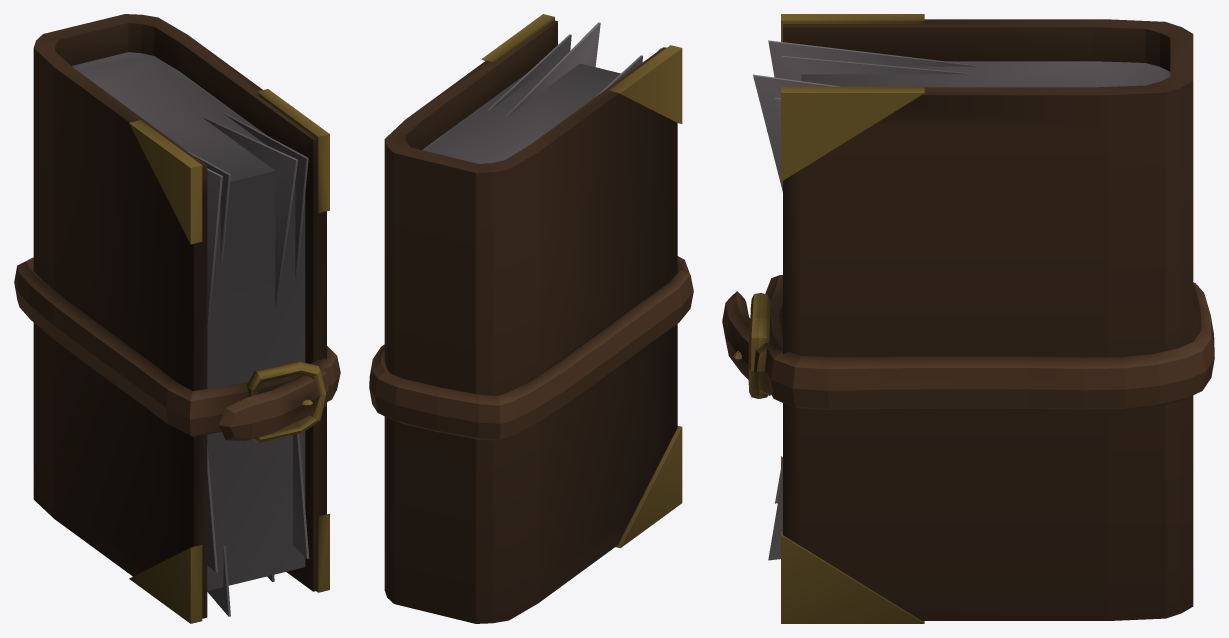
File: pq_grimoire.glb
3 renders of one model, left to right at view 1: azimuth 30°, elevation 25°; view 2: azimuth 150°, elevation 25°; view 3: azimuth 270°, elevation 25°, orthographic. The views are drawn at different scales.
Parts seen in each view (by area): view 1: Book3_Closed; view 2: Book3_Closed; view 3: Book3_Closed.
Part boxes in pixels (left/top/right/bottom): Book3_Closed: left=14, top=14, right=340, bottom=623; Book3_Closed: left=369, top=14, right=693, bottom=623; Book3_Closed: left=722, top=14, right=1214, bottom=623.
Bounding box in the file's own units: 0.1241 × 0.32 × 0.266.
